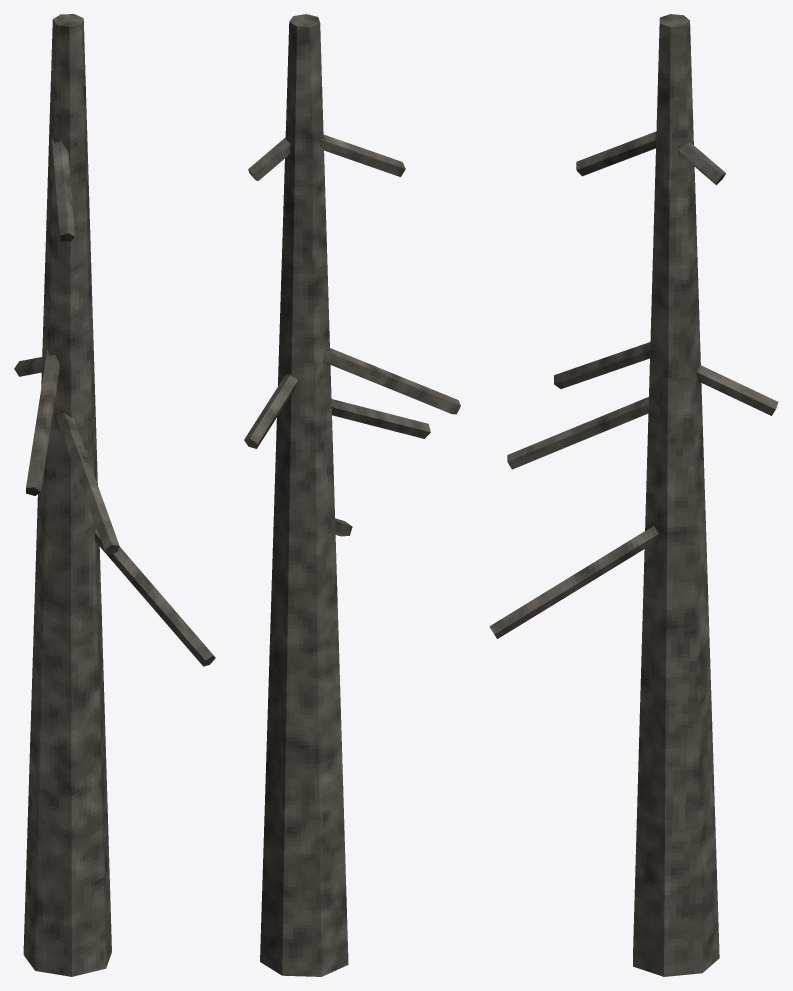
The model's file is snow_snag.glb.
3 renders of one model, left to right at view 1: azimuth 30°, elevation 25°; view 2: azimuth 150°, elevation 25°; view 3: azimuth 270°, elevation 25°, orthographic.
Visible parts, largest first — view 1: snow_snag; view 2: snow_snag; view 3: snow_snag.
Part boxes in pixels (x1,y1,x2,y2): snow_snag: [14, 14, 215, 976]; snow_snag: [244, 14, 460, 976]; snow_snag: [489, 14, 778, 976].
Size of the model in its own units: 0.8748 by 5 by 1.4.
Materials: 1 (1 with a texture image).
